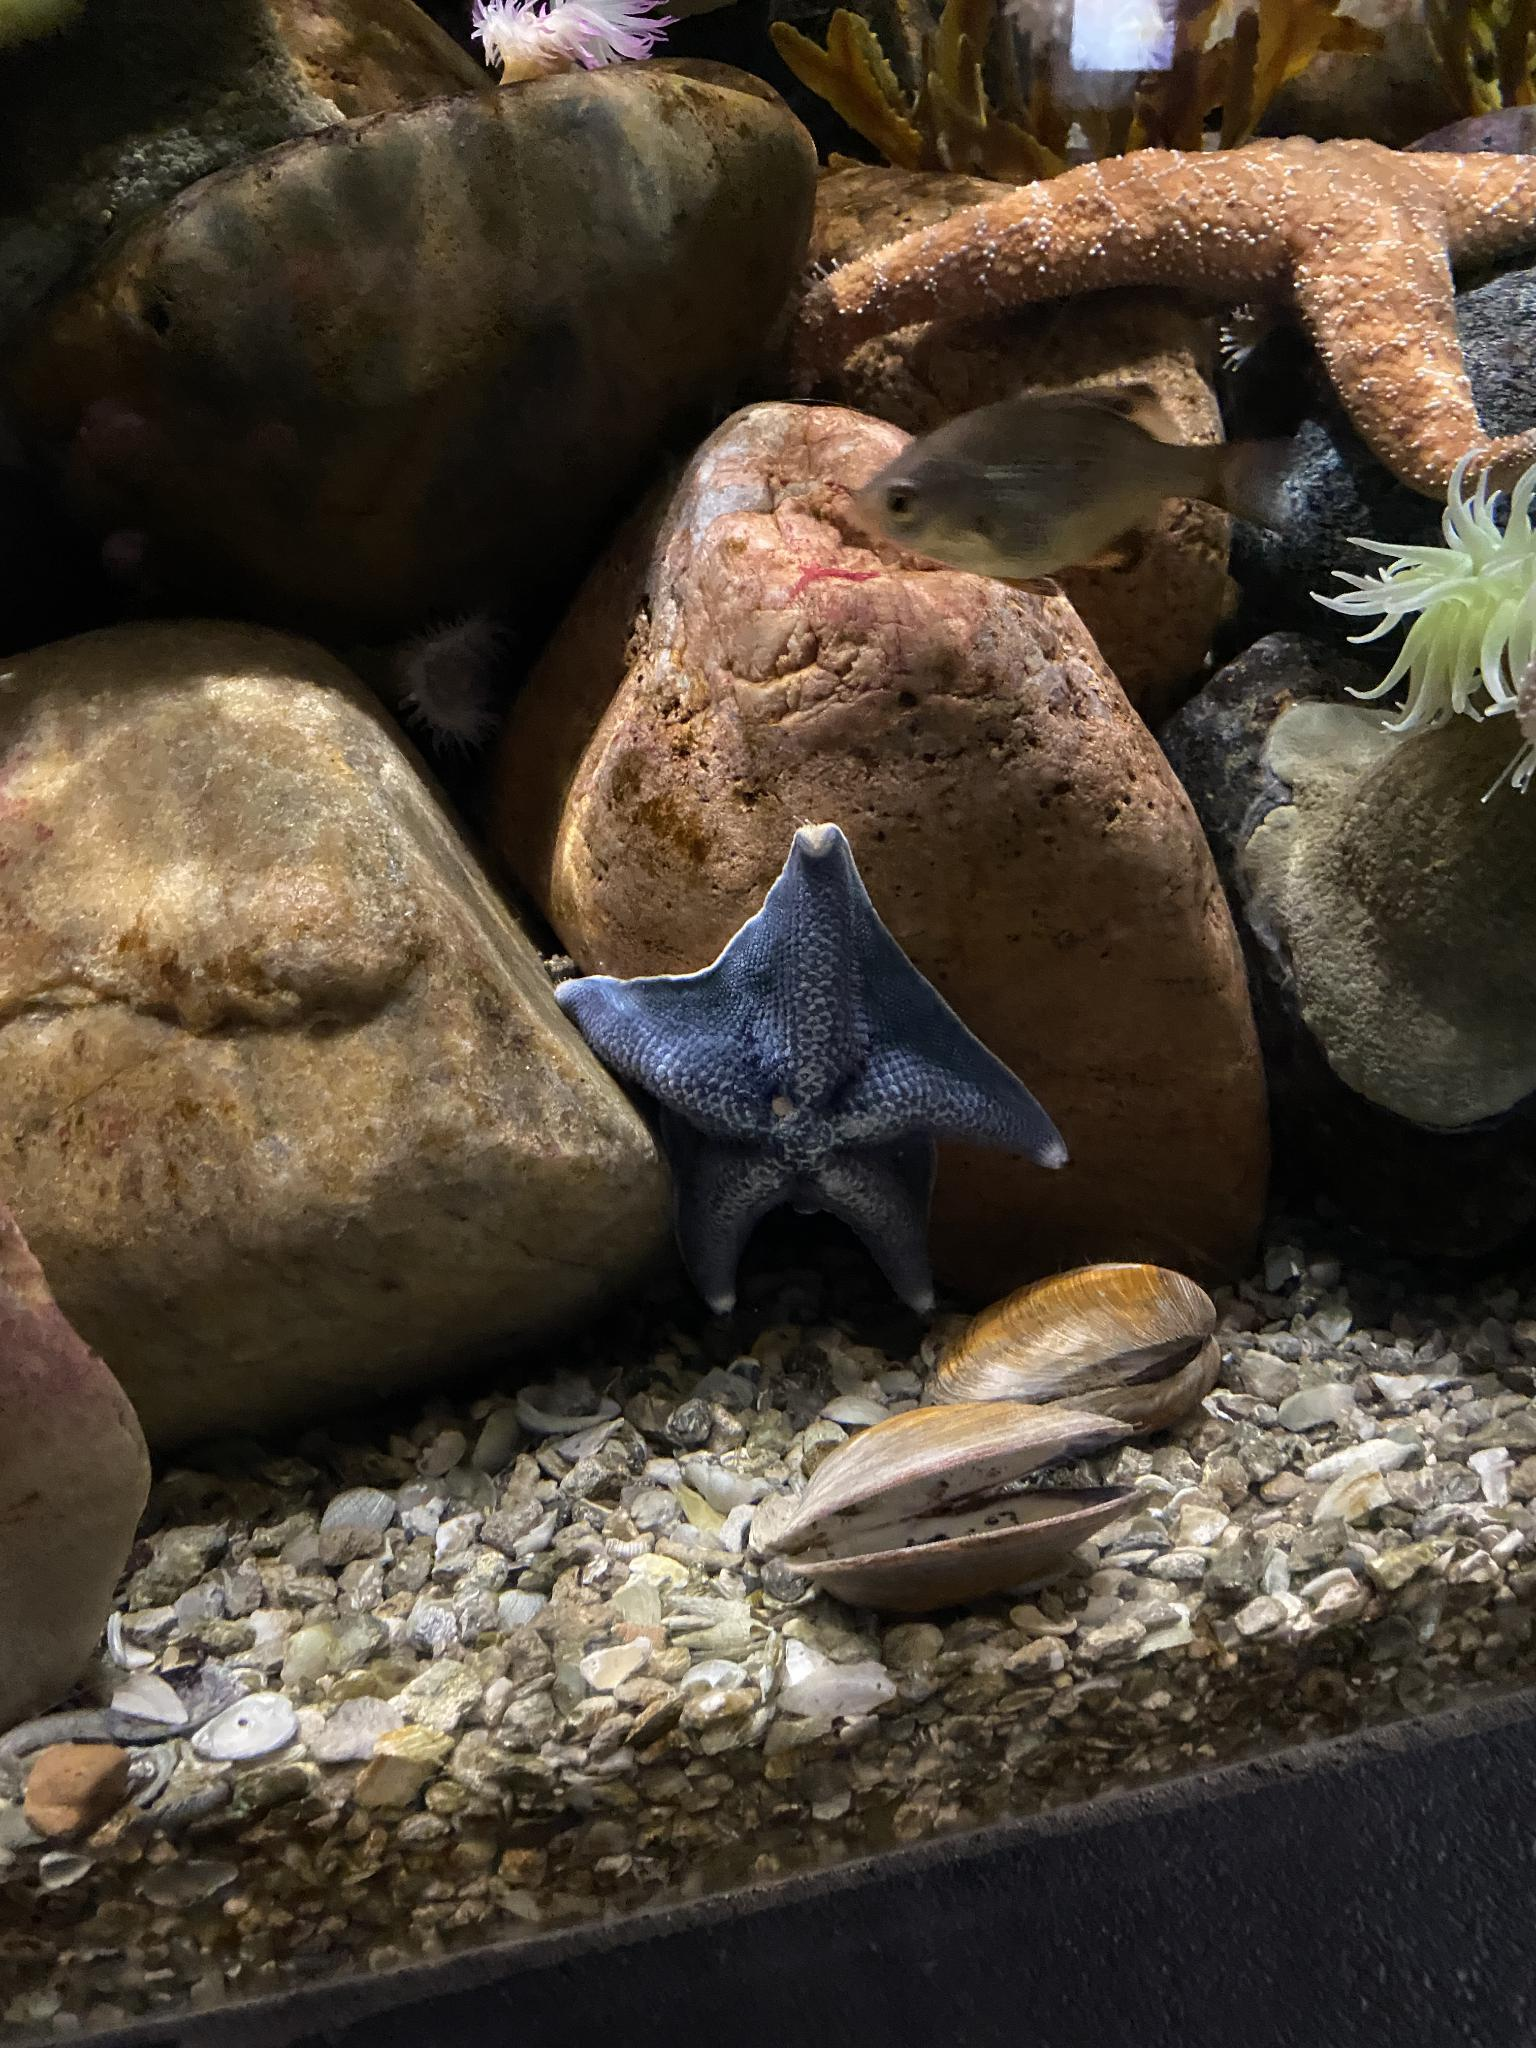fish: (849, 385, 1262, 584)
starfish: (573, 835, 1063, 1321)
